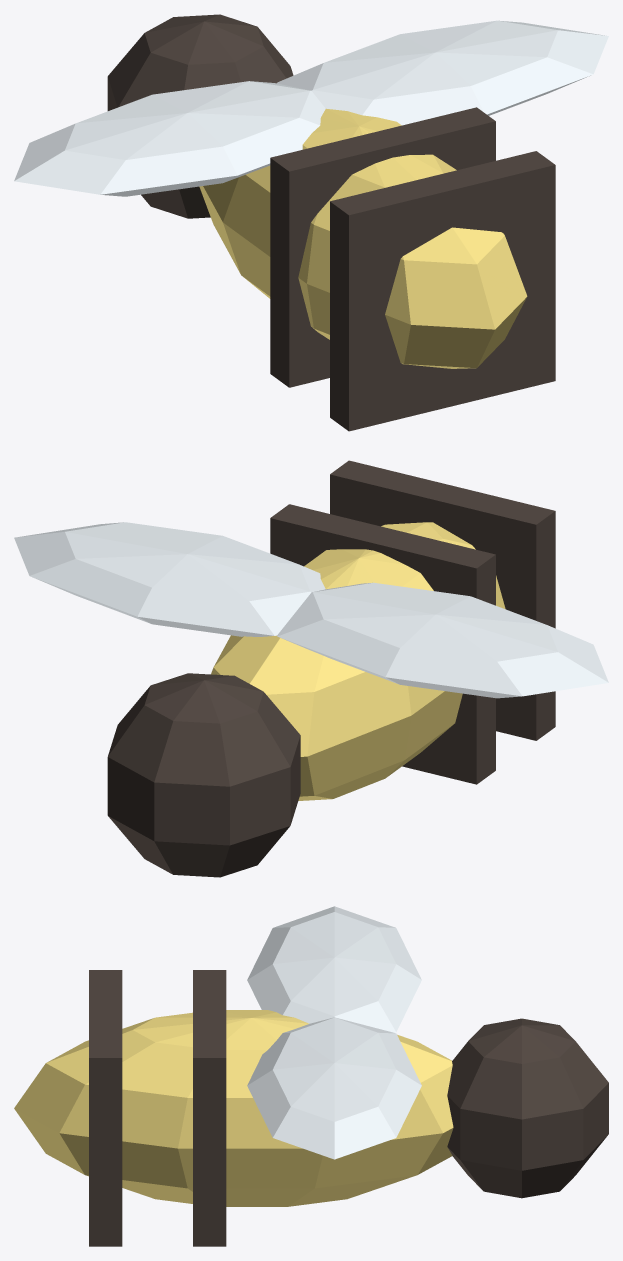
The model's file is queen_held.gltf.
The picture shows the model from 3 angles, top to bottom: view 1: azimuth 30°, elevation 25°; view 2: azimuth 150°, elevation 25°; view 3: azimuth 270°, elevation 25°; orthographic projection. The views are drawn at different scales.
Parts seen in each view (by area): view 1: bees_queen_held; view 2: bees_queen_held; view 3: bees_queen_held.
Boxes of the visible parts, x1,y1,x2,y2 form: bees_queen_held: (14,14,608,431); bees_queen_held: (14,460,608,877); bees_queen_held: (14,906,608,1246).
Bounding box in the file's own units: 0.144 × 0.051 × 0.1429.
